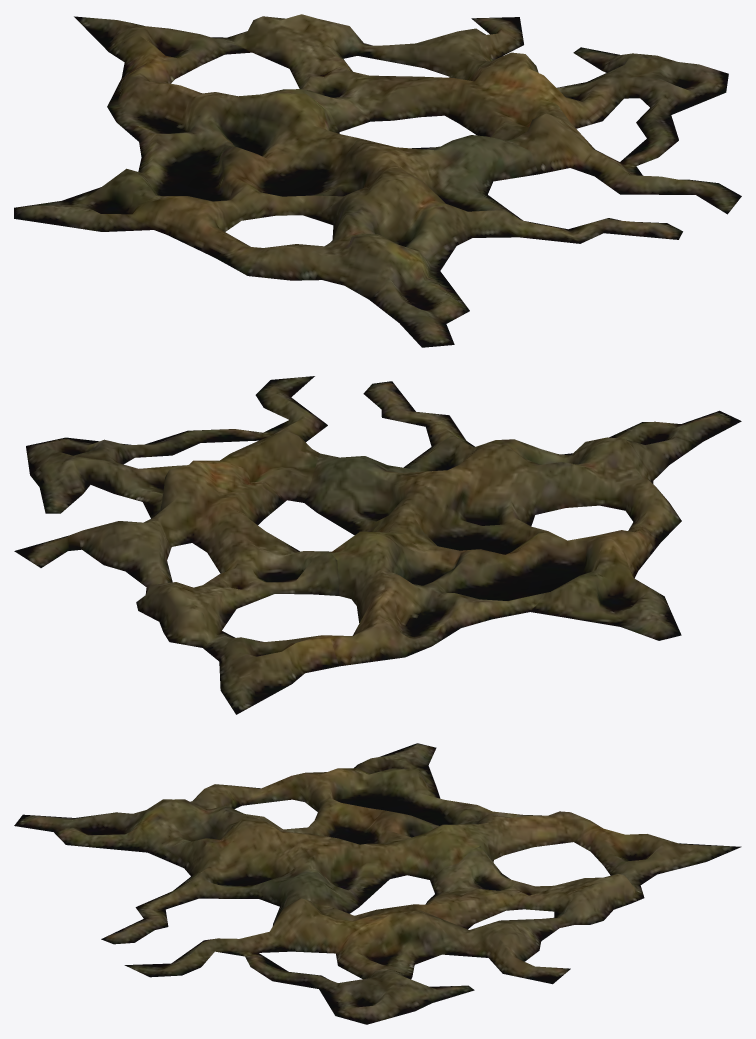
Rendered from Biomass - 13-69fxB5ro.glb.
The picture shows the model from 3 angles, top to bottom: view 1: azimuth 30°, elevation 25°; view 2: azimuth 150°, elevation 25°; view 3: azimuth 270°, elevation 25°; orthographic projection. The views are drawn at different scales.
Visible parts, largest first — view 1: Biomass_13; view 2: Biomass_13; view 3: Biomass_13.
Part boxes in pixels (<box>): Biomass_13: <box>14,14,741,347</box>; Biomass_13: <box>14,376,741,714</box>; Biomass_13: <box>14,743,741,1024</box>.
Bounding box in the file's own units: 2.59 × 0.1657 × 2.83.
1 material, 1 textured.
